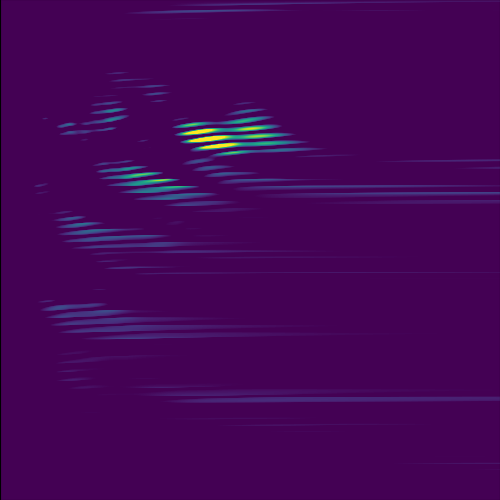semblance: (174, 121, 243, 155)
